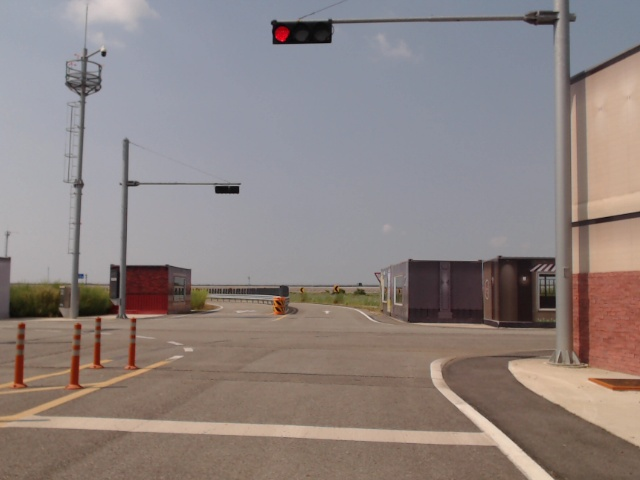red_3: (274, 23, 332, 44)
